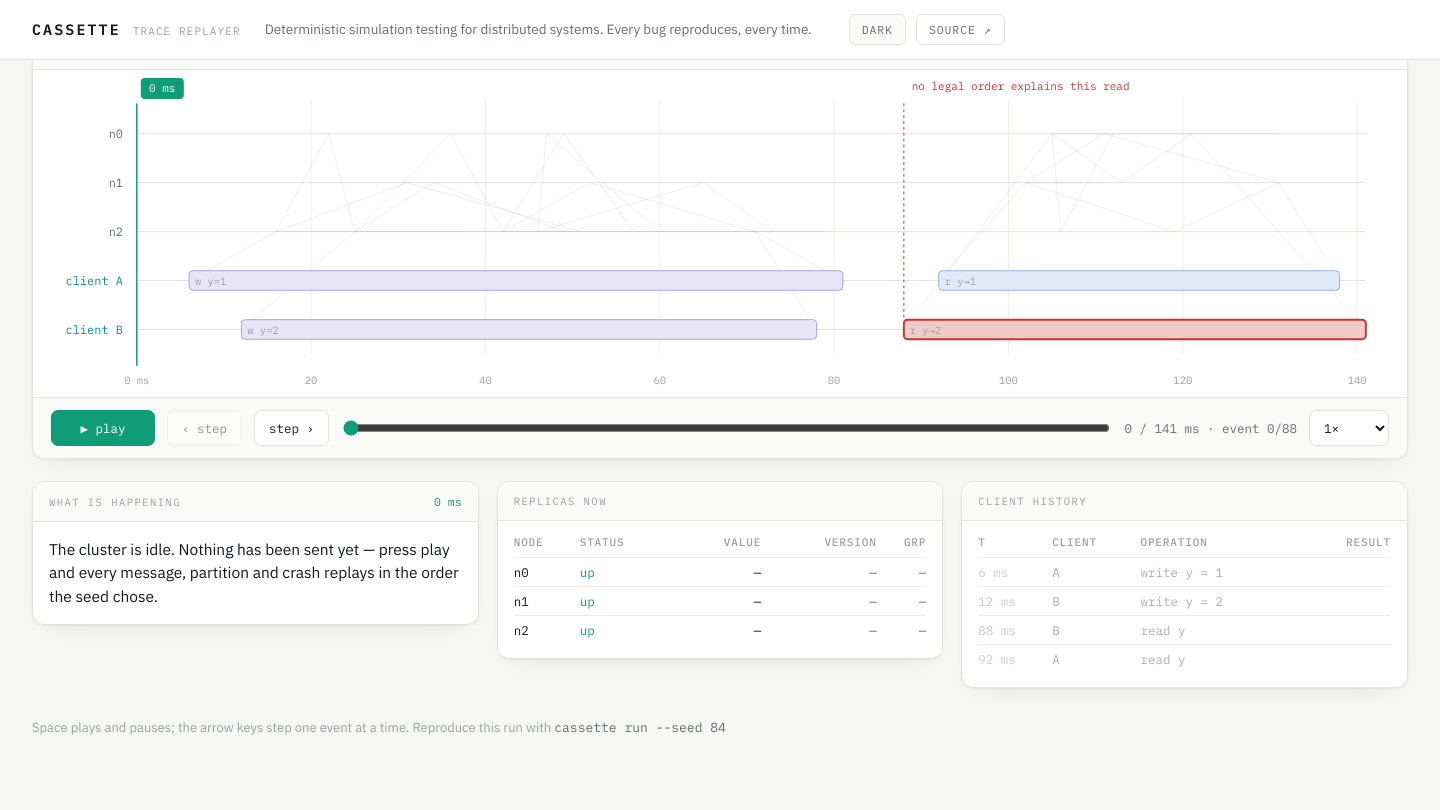
Test: App › narrates the event once it has stepped onto one
(page scrolled)
Expected: the text with class "narration" is shown, top-left (49, 538), bottom-right (462, 608)
Click the button with aria-label "Step forward" at (292,428), box top-left (254, 410), bottom-right (329, 446)
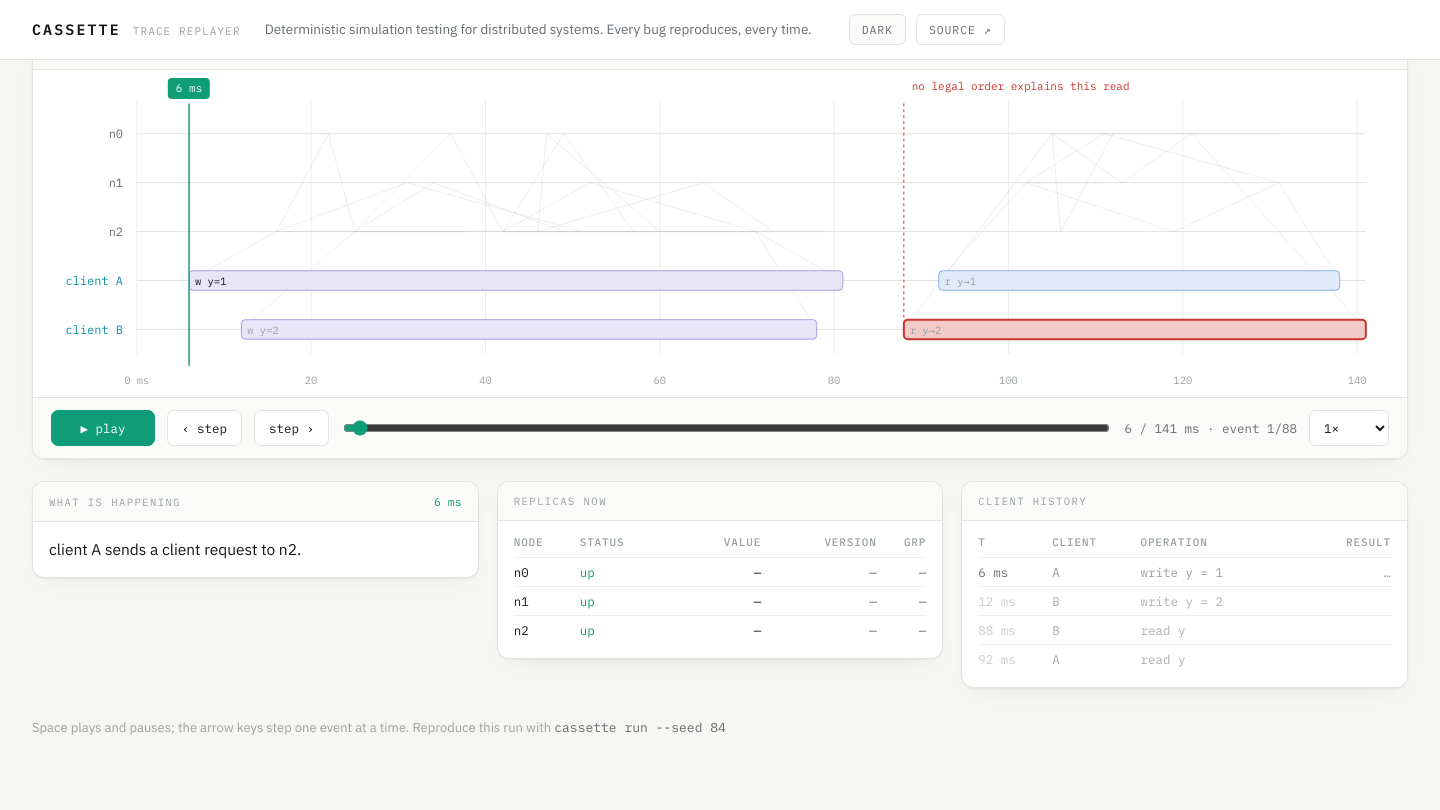
Result: the text with class "narration" no longer shows "idle"
